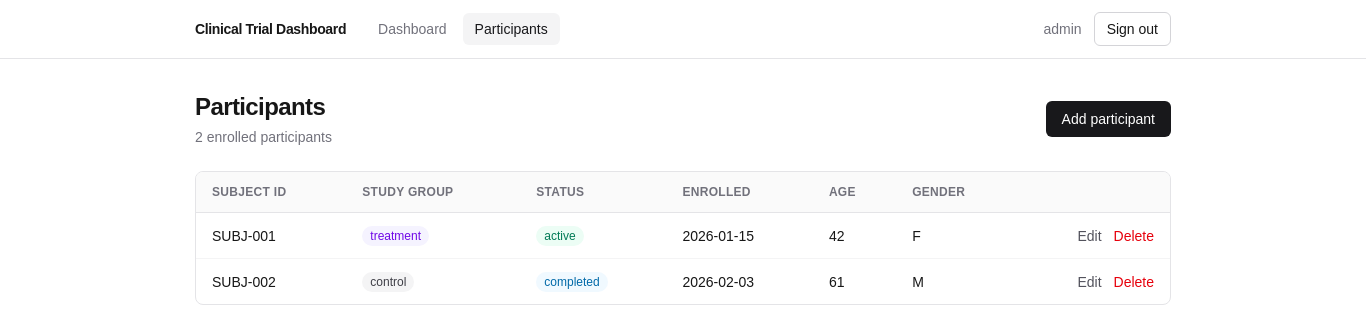
it: participant deletion › deletes after confirmation and removes the row on refetch
The image size is (1366, 327).
Click the button with aria-label "Delete SUBJ-001" at (1134, 236), box left=1114, top=226, right=1154, bottom=246
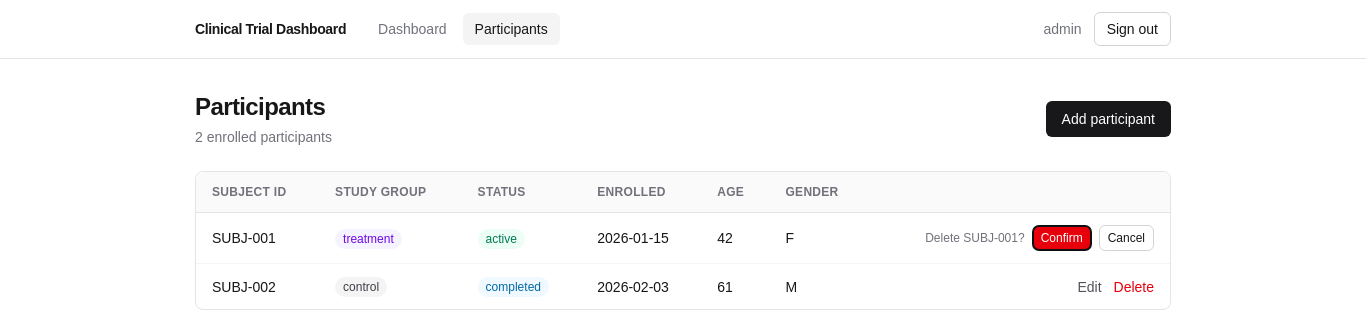
Expected: the text "Delete SUBJ-001?" is shown, left=925, top=230, right=1025, bottom=246
Click the button "Confirm" at (1062, 238), box left=1033, top=226, right=1091, bottom=250
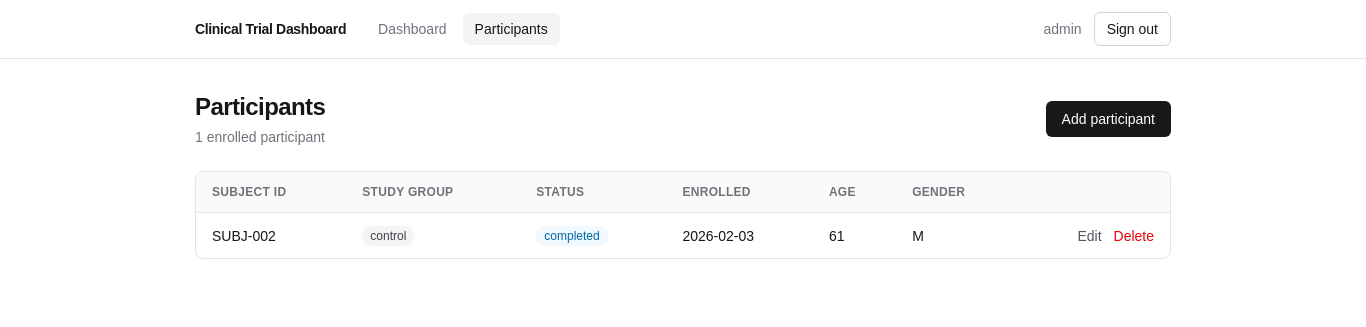
Expected: the text "SUBJ-002" is shown, left=196, top=212, right=346, bottom=258
Expected: the text "SUBJ-001" is gone
Expected: the text "1 enrolled participant" is shown, left=195, top=127, right=325, bottom=147
